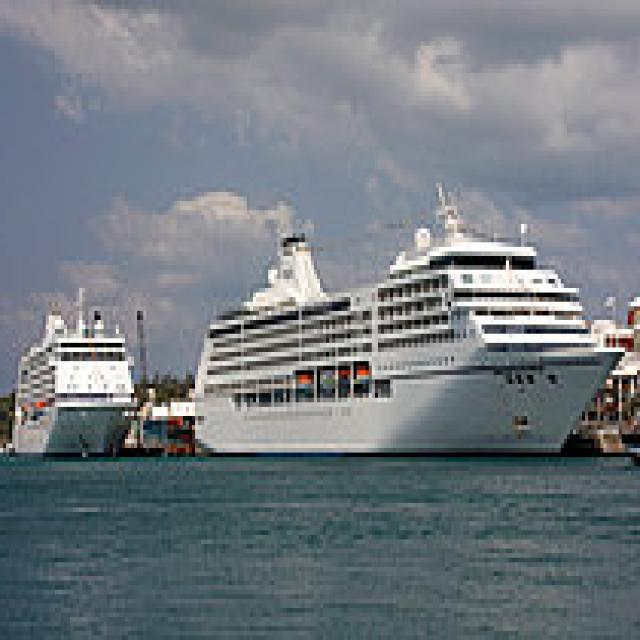Cruise: (195, 174, 634, 452), (15, 279, 150, 457)
